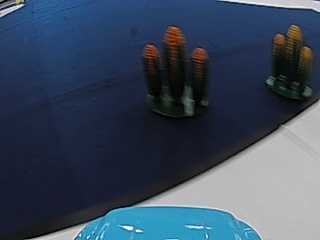corn: (140, 27, 203, 119), (267, 19, 313, 102)
